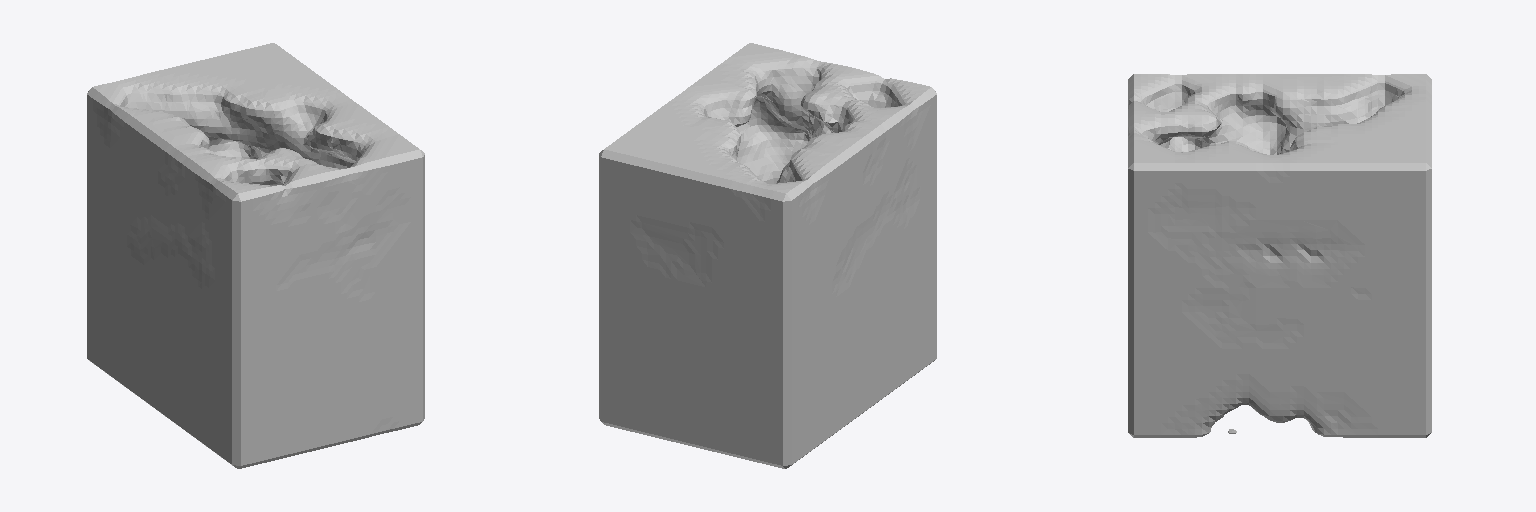
3 views of the same model, side by side, from view 1: azimuth 30°, elevation 25°; view 2: azimuth 150°, elevation 25°; view 3: azimuth 270°, elevation 25° (orthographic).
Visible parts, largest first — view 1: Liquid_Domain; view 2: Liquid_Domain; view 3: Liquid_Domain.
Boxes of the visible parts, <box> form: Liquid_Domain: <box>87,43,424,468</box>; Liquid_Domain: <box>599,43,936,468</box>; Liquid_Domain: <box>1128,74,1431,437</box>.
Size of the model in its own units: 79.09 by 108 by 108.